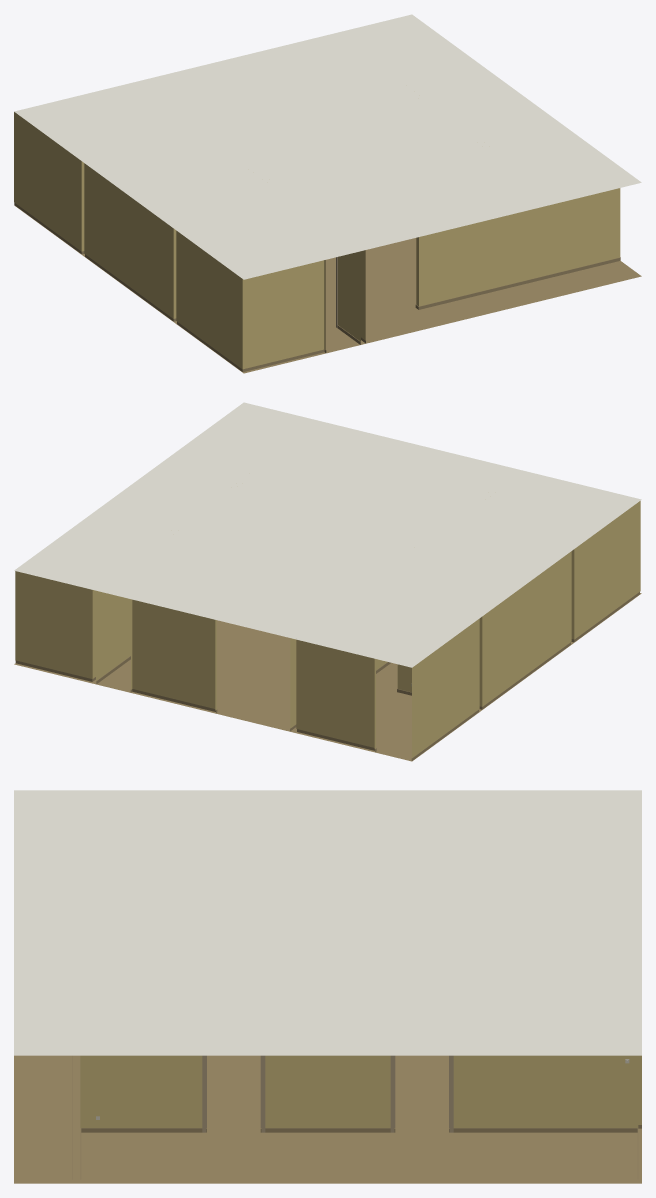
Rendered from chunk_0_4.glb.
The picture shows the model from 3 angles, top to bottom: view 1: azimuth 30°, elevation 25°; view 2: azimuth 150°, elevation 25°; view 3: azimuth 270°, elevation 25°; orthographic projection. The views are drawn at different scales.
Parts seen in each view (by area): view 1: chunk_0_4; view 2: chunk_0_4; view 3: chunk_0_4.
Part boxes in pixels (<box>): chunk_0_4: <box>14,14,641,373</box>; chunk_0_4: <box>14,402,641,761</box>; chunk_0_4: <box>14,790,641,1183</box>.
Bounding box in the file's own units: 12.01 × 2.7 × 12.
